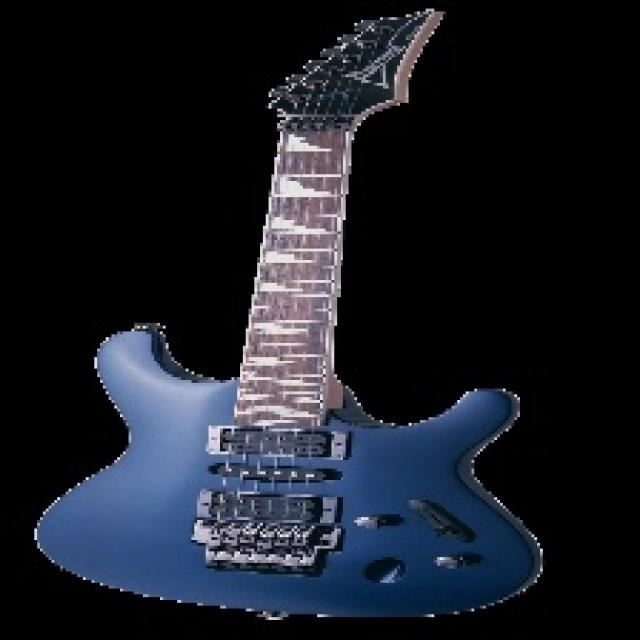guitar: (33, 0, 546, 622)
